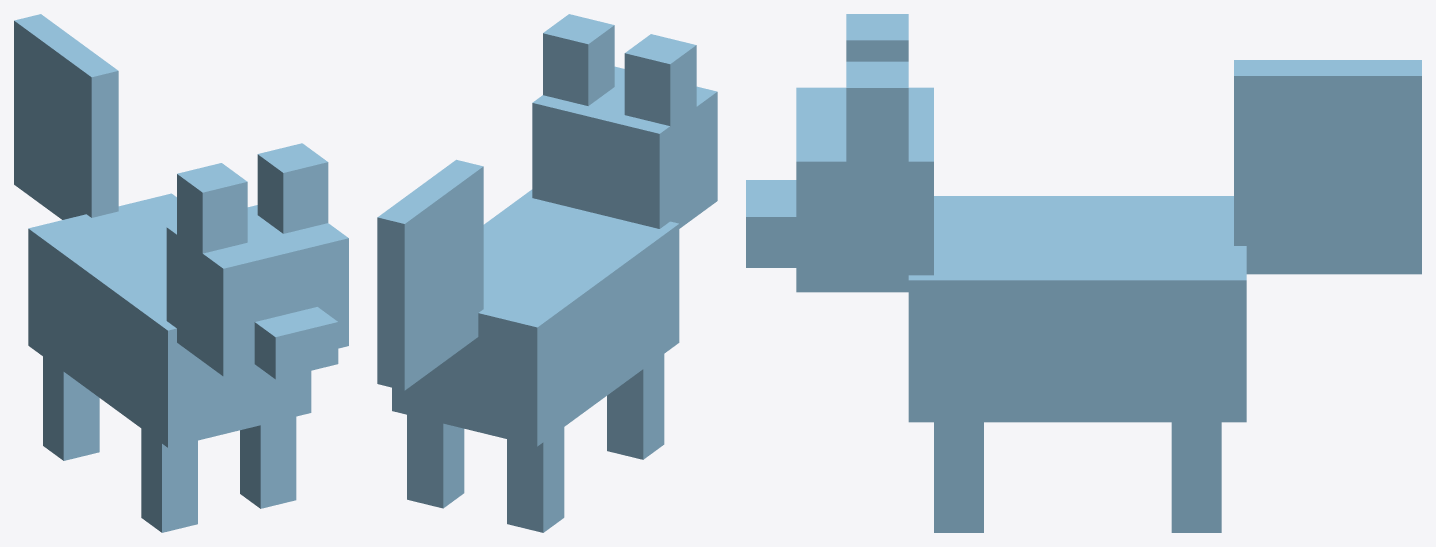
File: cat.glb
3 views of the same model, side by side, from view 1: azimuth 30°, elevation 25°; view 2: azimuth 150°, elevation 25°; view 3: azimuth 270°, elevation 25° (orthographic). The views are drawn at different scales.
Bounding box in the file's own units: 0.32 × 0.78 × 1.08.
